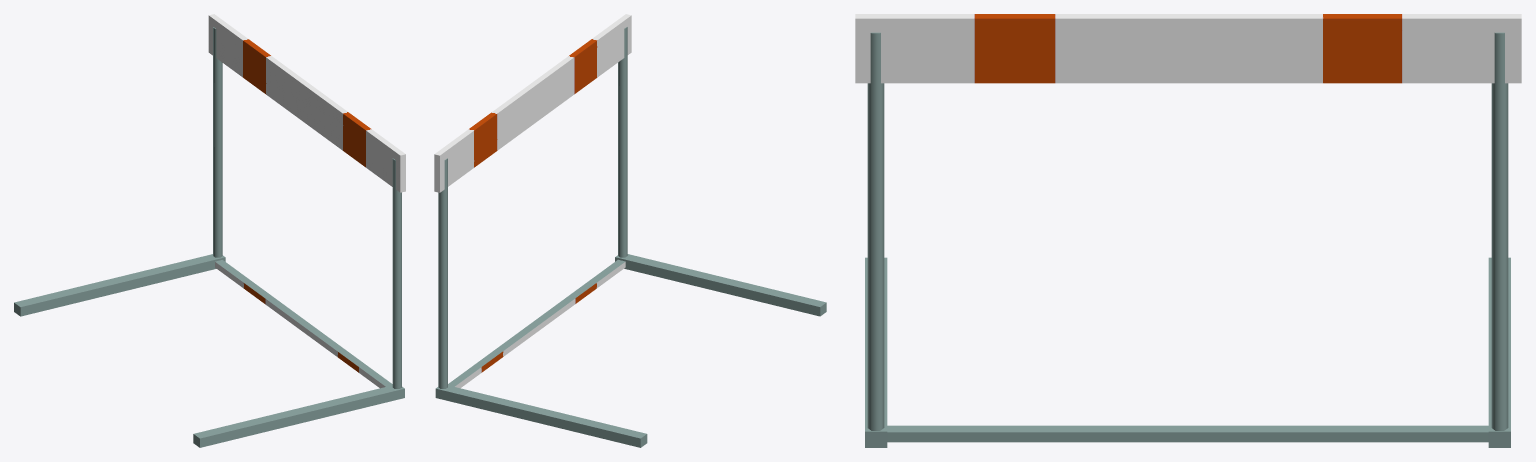
File: HURDLE__100m_woman.FBX
3 views of the same model, side by side, from view 1: azimuth 30°, elevation 25°; view 2: azimuth 150°, elevation 25°; view 3: azimuth 270°, elevation 25° (orthographic). The views are drawn at different scales.
Visible parts, largest first — view 1: HURDLE__100m_woman; view 2: HURDLE__100m_woman; view 3: HURDLE__100m_woman.
Part boxes in pixels (box(x1,y1,x2,y2)): HURDLE__100m_woman: box(14, 14, 405, 447); HURDLE__100m_woman: box(434, 14, 826, 447); HURDLE__100m_woman: box(855, 14, 1521, 447).
Size of the model in its own units: 7.32 by 8.4 by 11.85.
